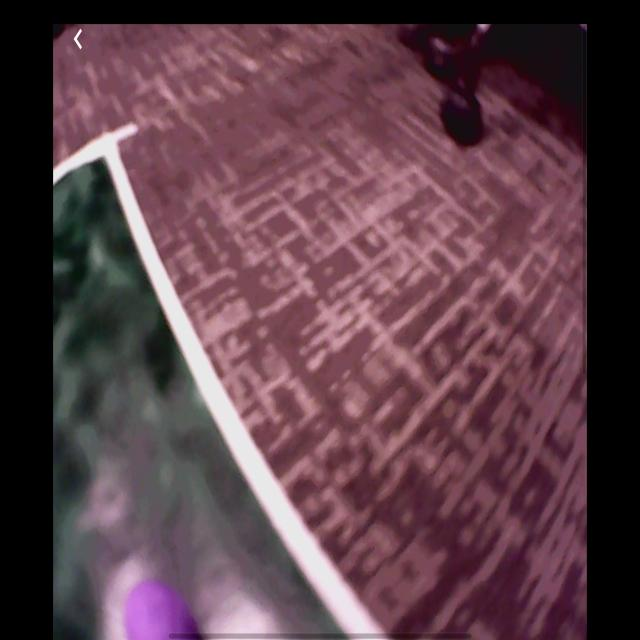ball: (123, 576, 192, 640)
